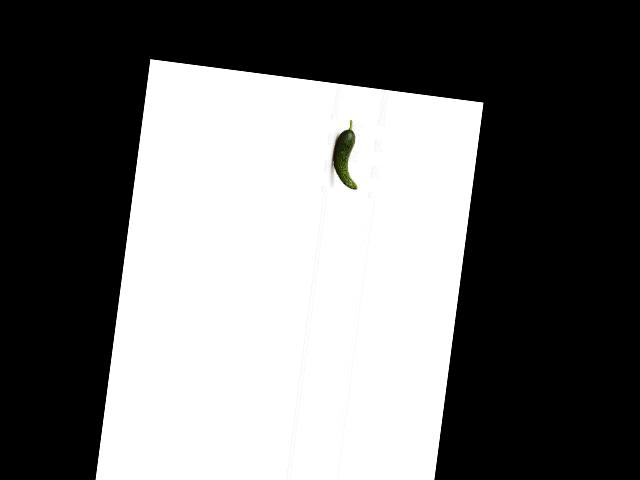cucumber: (329, 118, 365, 189)
